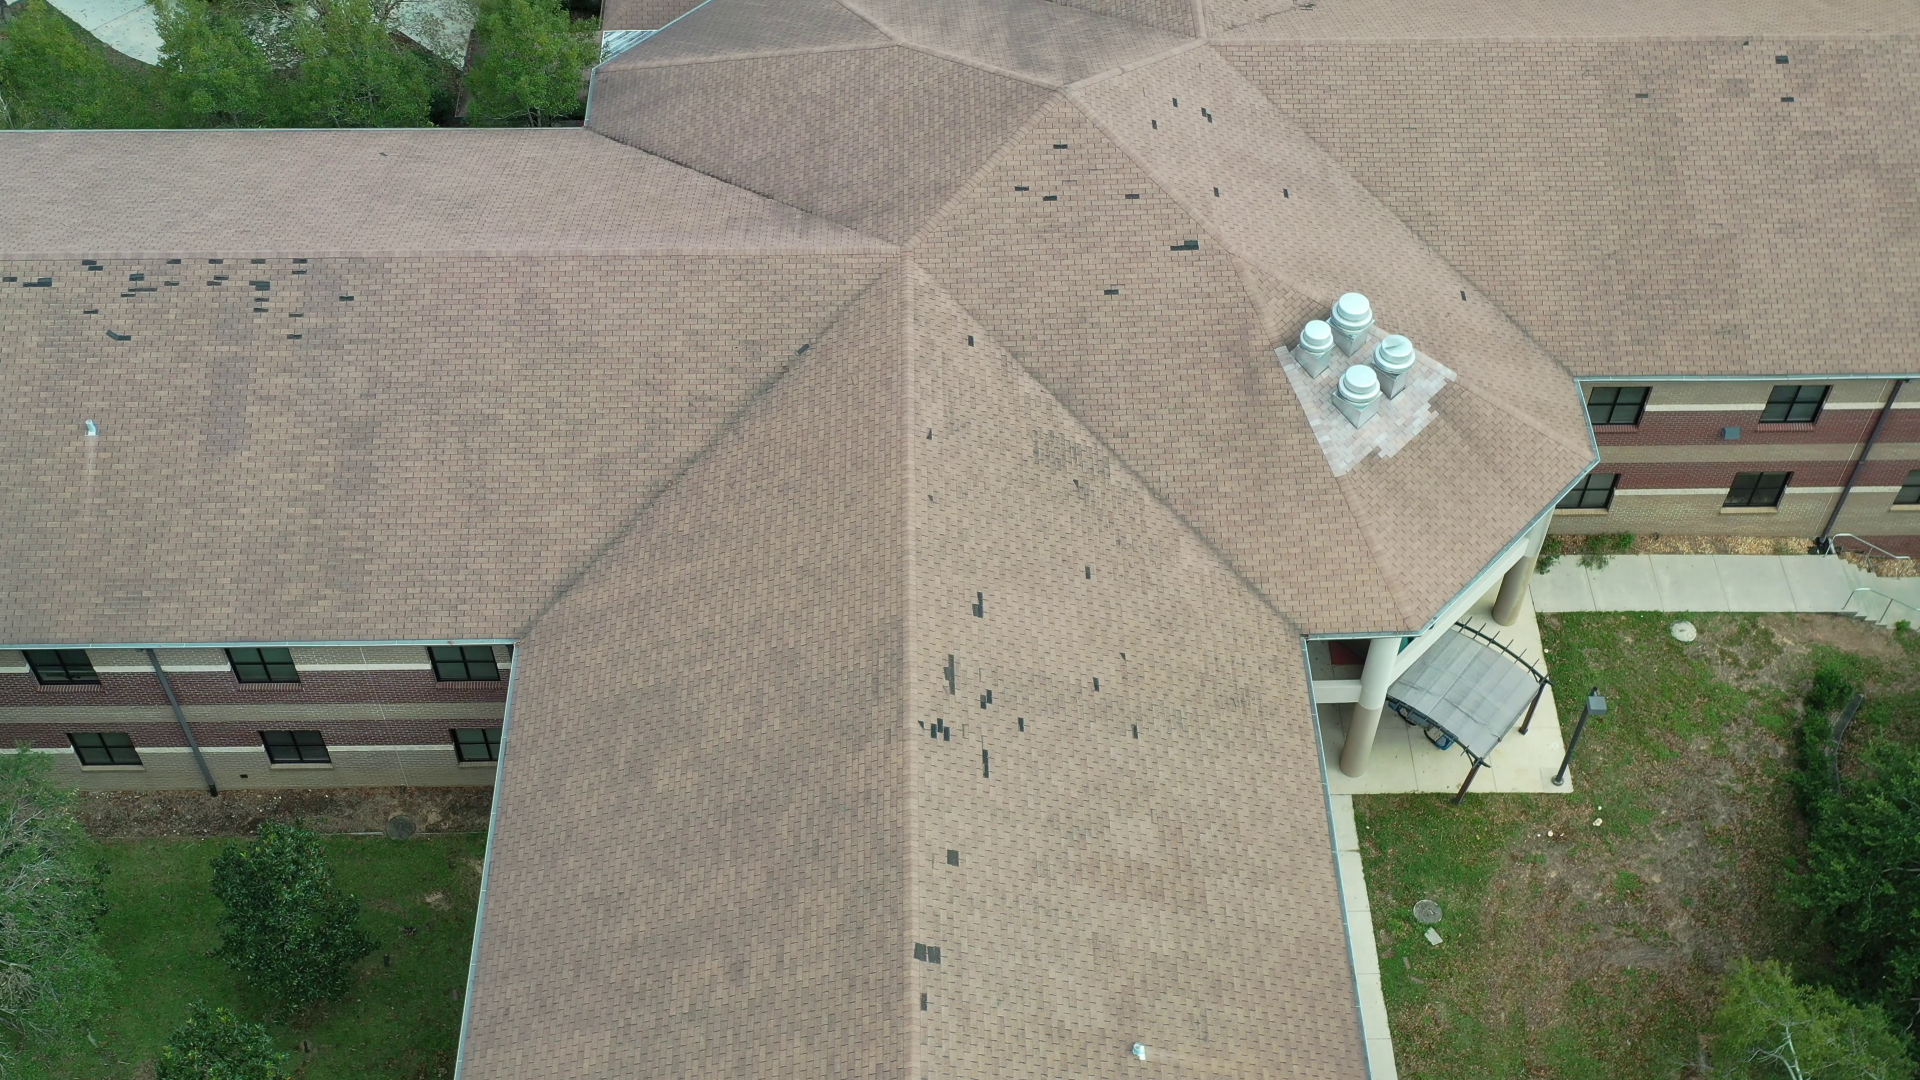Light: (3, 258, 353, 342), (916, 654, 1025, 781), (1092, 653, 1139, 740), (913, 942, 942, 1011), (1171, 96, 1213, 124), (1013, 185, 1058, 202), (971, 591, 984, 620), (1168, 240, 1200, 252), (945, 849, 960, 868), (1774, 54, 1789, 65), (1102, 287, 1120, 297), (1124, 193, 1139, 200), (1084, 562, 1091, 580), (967, 334, 975, 348), (1052, 142, 1067, 150), (1282, 186, 1290, 200), (1150, 117, 1158, 131), (1779, 98, 1795, 104), (1634, 92, 1650, 99), (1213, 185, 1220, 198)
